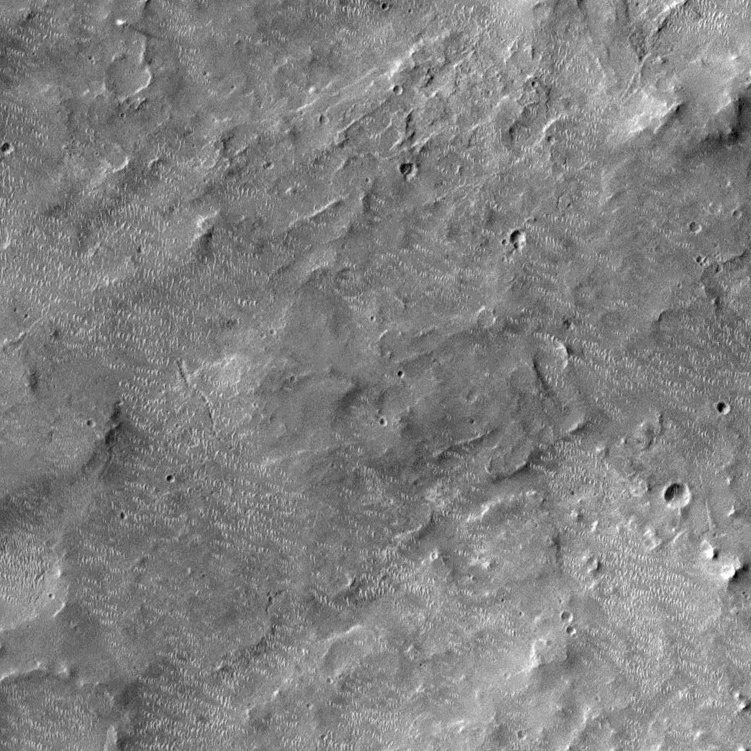dust_devil: (115, 18, 152, 39)
